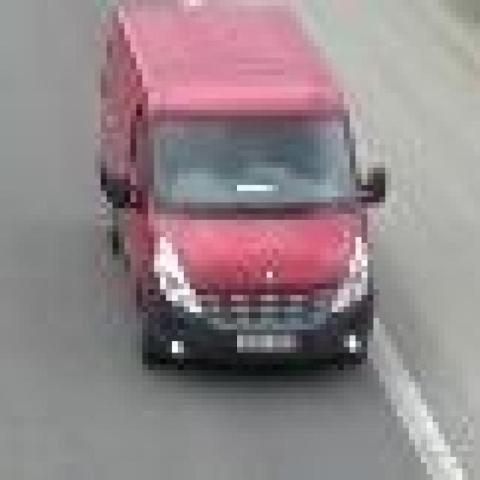van: (101, 11, 374, 364)
